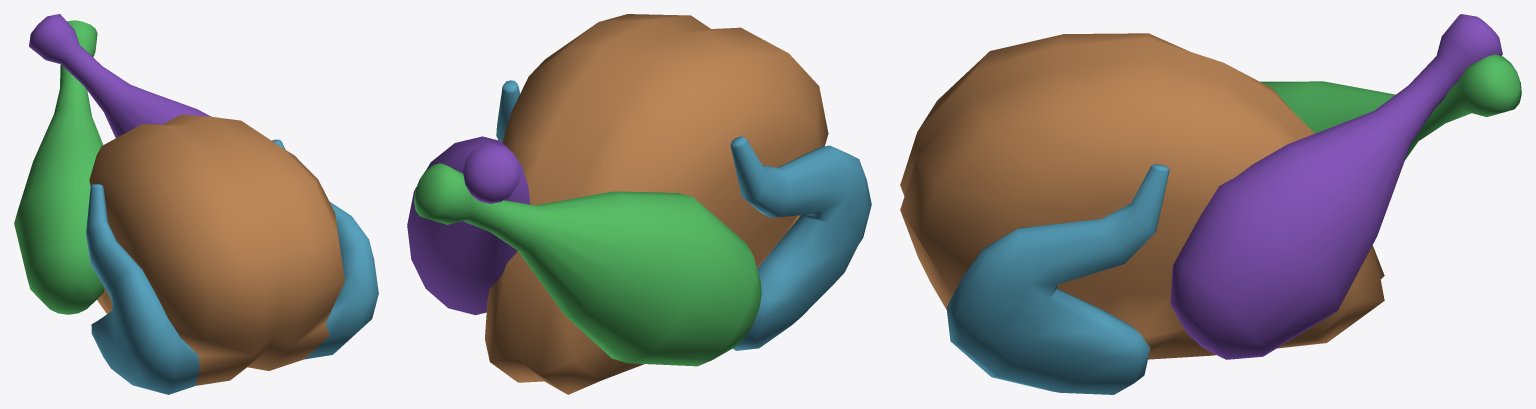
Rendered from Chicken.fbx.
3 renders of one model, left to right at view 1: azimuth 30°, elevation 25°; view 2: azimuth 150°, elevation 25°; view 3: azimuth 270°, elevation 25°, orthographic. The views are drawn at different scales.
Parts seen in each view (by area): view 1: Chicken; view 2: Chicken; view 3: Chicken.
Boxes of the visible parts, x1,y1,x2,y2 form: Chicken: (14,14,378,394); Chicken: (407,14,871,394); Chicken: (900,14,1521,394).
Size of the model in its own units: 33.89 by 31.3 by 54.88.
